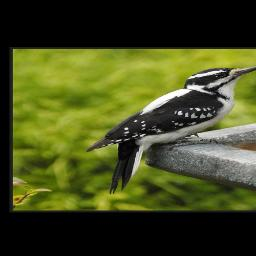Woodpecker: (86, 60, 256, 195)
